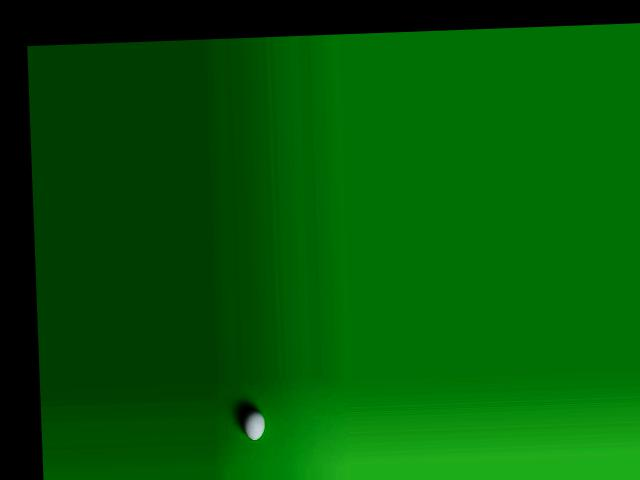egg: (242, 409, 265, 440)
